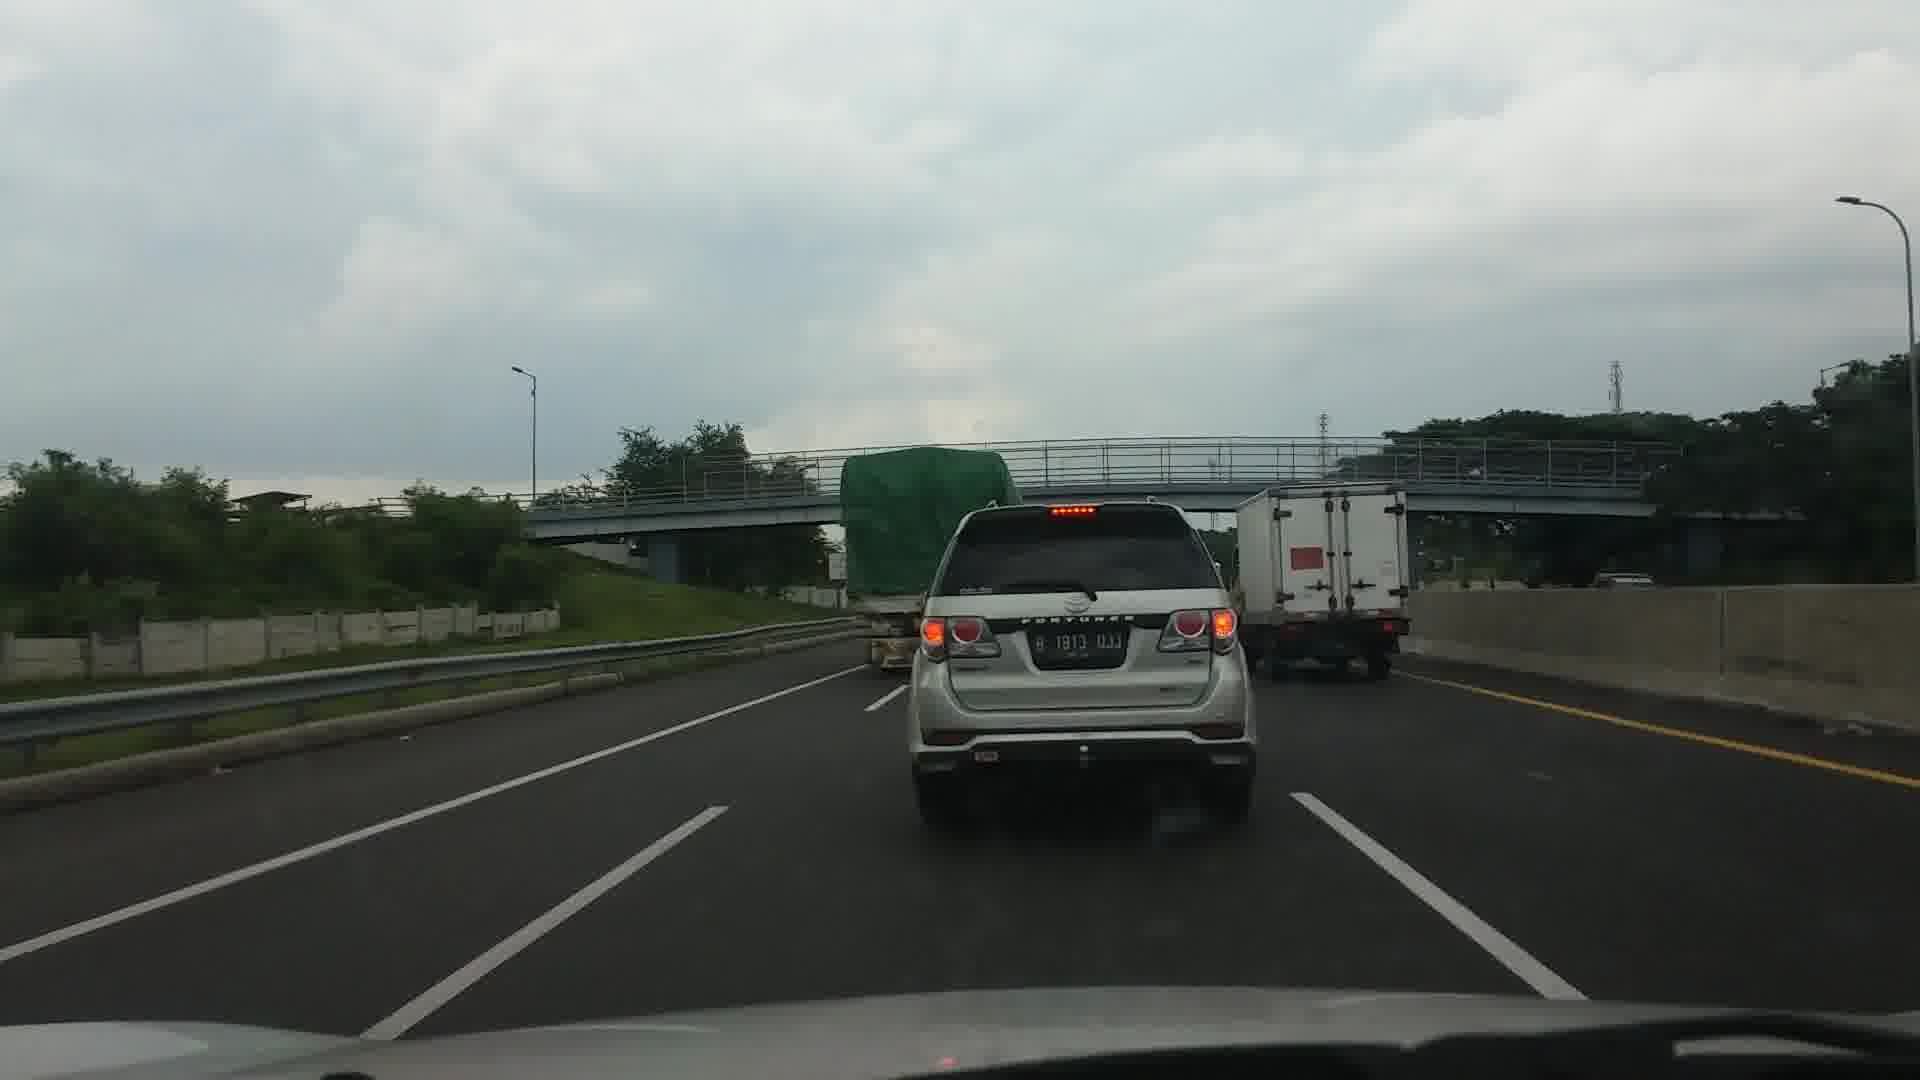plate_positive: (1033, 629, 1125, 659)
